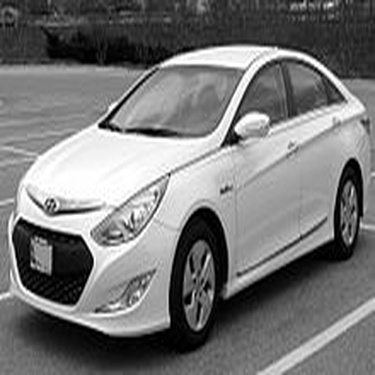car: (1, 32, 372, 359)
